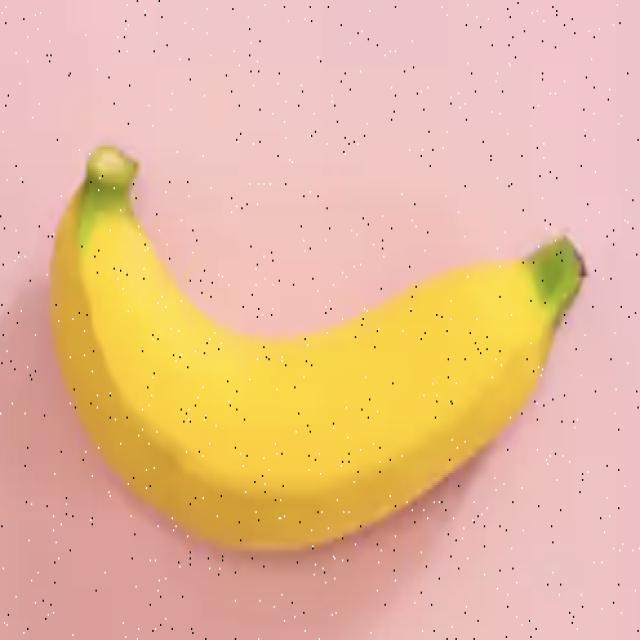Banana: (47, 144, 585, 552)
